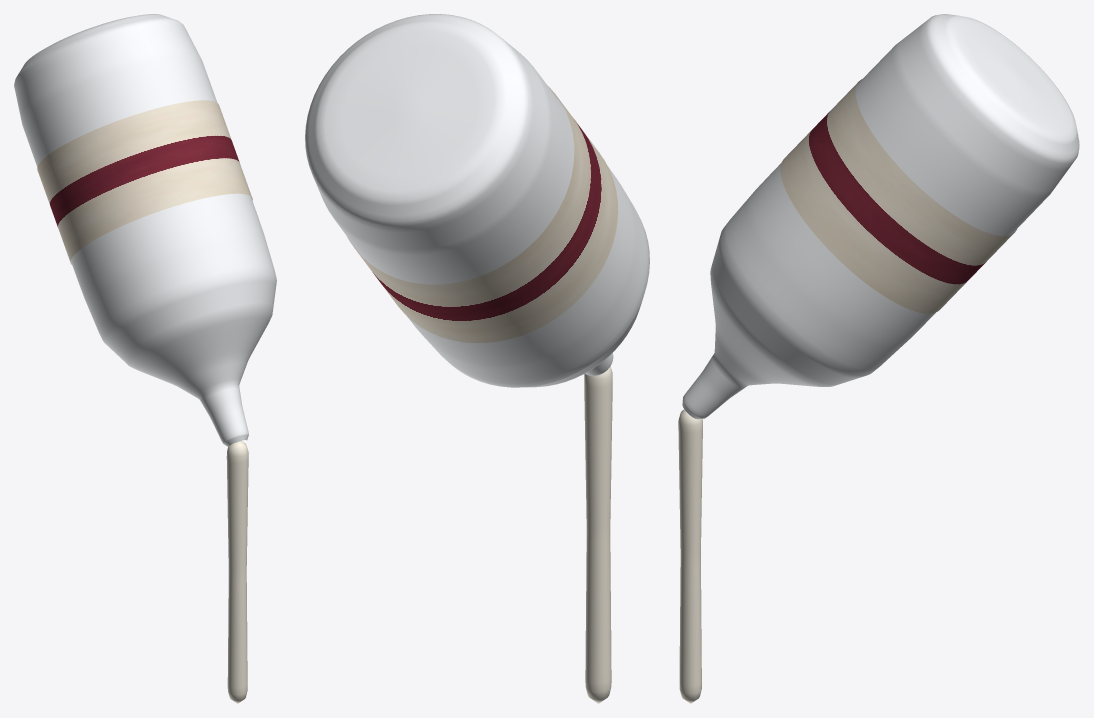
Rendered from _frasco_leite_condensado.glb.
3 views of the same model, side by side, from view 1: azimuth 30°, elevation 25°; view 2: azimuth 150°, elevation 25°; view 3: azimuth 270°, elevation 25° (orthographic). The views are drawn at different scales.
Parts seen in each view (by area): view 1: _frasco_leite_condensado_0, _frasco_leite_condensado_1; view 2: _frasco_leite_condensado_0, _frasco_leite_condensado_1; view 3: _frasco_leite_condensado_0, _frasco_leite_condensado_1.
Part boxes in pixels (bbox=[...]): _frasco_leite_condensado_0: bbox=[14, 14, 276, 446]; _frasco_leite_condensado_1: bbox=[226, 441, 248, 703]; _frasco_leite_condensado_0: bbox=[305, 14, 649, 387]; _frasco_leite_condensado_1: bbox=[584, 366, 612, 703]; _frasco_leite_condensado_0: bbox=[682, 14, 1079, 419]; _frasco_leite_condensado_1: bbox=[678, 409, 702, 703].
Bounding box in the file's own units: 0.686 × 2.36 × 1.27.
Materials: 3 (1 with a texture image).
